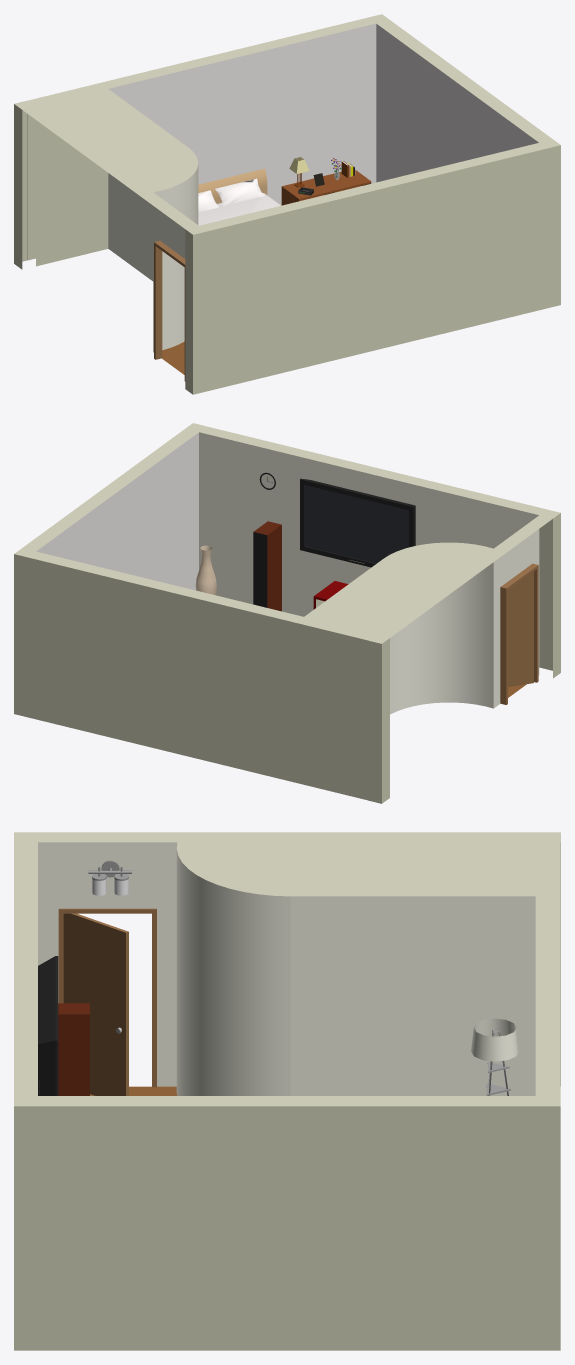
Rendered from Design_room.obj.
3 views of the same model, one above another, from view 1: azimuth 30°, elevation 25°; view 2: azimuth 150°, elevation 25°; view 3: azimuth 270°, elevation 25° (orthographic). The views are drawn at different scales.
Visible parts, largest first — view 1: Model, Door_3_0x6_8_Left_Rev17289 Model, Group17561 Model, Group4874 Group11481 Generic_Entertainment_Center17290 Model, pillow17559 Model; view 2: Model, TV_FlatScreen_42in17106 Model, FlushDoor3611348 Door_3_0x6_8_Left_Rev17289 Model, Speaker_Tall17108 Model, Door_3_0x6_8_Left_Rev17289 Model; view 3: Model, FlushDoor3611348 Door_3_0x6_8_Left_Rev17289 Model, Speaker_Tall17107 Model, TV_FlatScreen_42in17106 Model, Door_3_0x6_8_Left_Rev17289 Model.
Part boxes in pixels (x1,y1,x2,y2): Model: (14, 14, 560, 394); Door_3_0x6_8_Left_Rev17289 Model: (154, 240, 185, 381); Group17561 Model: (198, 193, 280, 225); Group4874 Group11481 Generic_Entertainment_Center17290 Model: (283, 171, 370, 200); pillow17559 Model: (215, 178, 264, 205); Model: (14, 423, 560, 803); TV_FlatScreen_42in17106 Model: (300, 478, 415, 567); FlushDoor3611348 Door_3_0x6_8_Left_Rev17289 Model: (508, 571, 533, 686); Speaker_Tall17108 Model: (253, 521, 281, 611); Door_3_0x6_8_Left_Rev17289 Model: (500, 563, 538, 704); Model: (14, 832, 560, 1350); FlushDoor3611348 Door_3_0x6_8_Left_Rev17289 Model: (63, 913, 128, 1095); Speaker_Tall17107 Model: (58, 1003, 89, 1095); TV_FlatScreen_42in17106 Model: (38, 956, 58, 1095); Door_3_0x6_8_Left_Rev17289 Model: (58, 908, 156, 1087).
Bounding box in the file's own units: 428 × 178 × 361.
